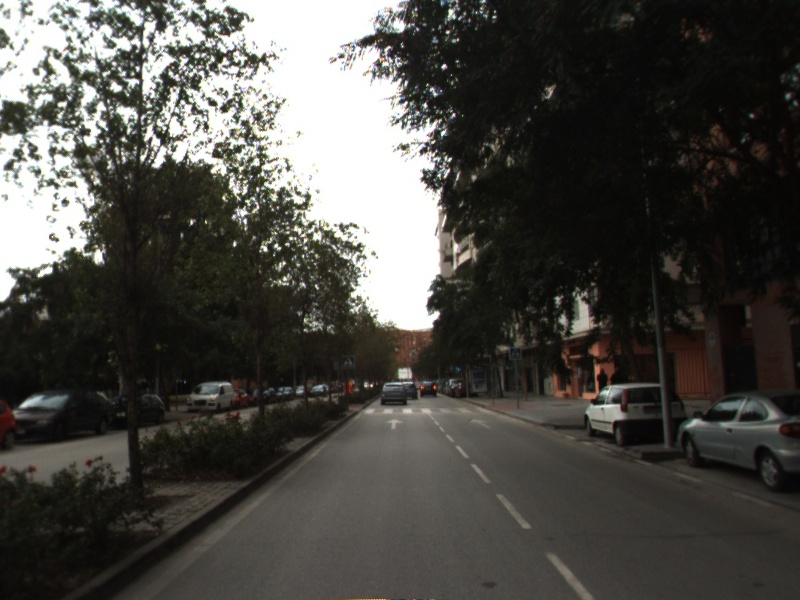STRAIGHT: (467, 416, 495, 431), (383, 417, 405, 431)
